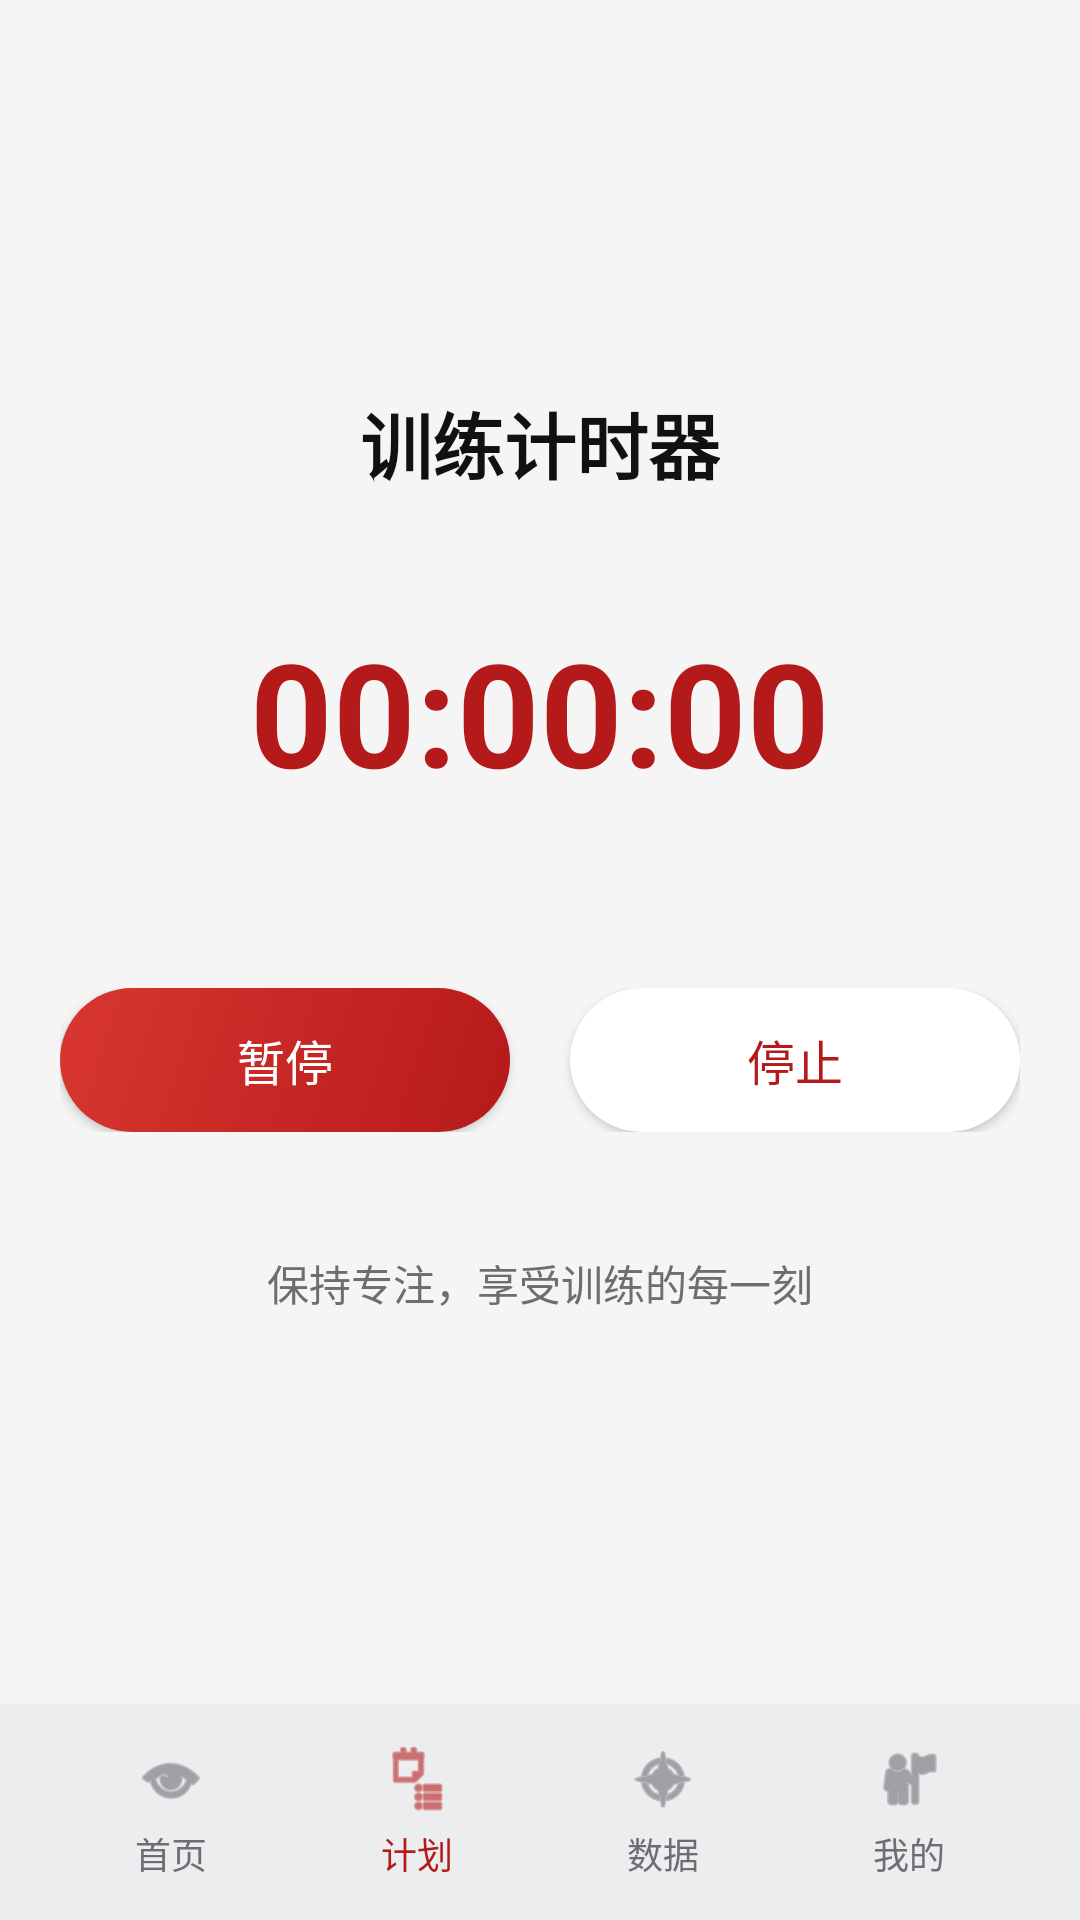

Screen size 1080px×1920px. Icon name, then its center in pixels as (x,y):
agenda: (417,1779)
compass: (662,1779)
myplaces: (910,1779)
view: (171,1781)
